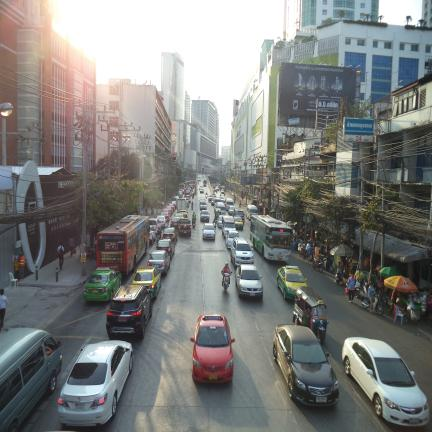bus: (96, 215, 149, 275), (250, 214, 293, 261)
car: (342, 338, 430, 426), (58, 340, 133, 426), (273, 325, 339, 405), (106, 285, 152, 339), (235, 264, 263, 298), (230, 237, 254, 268), (147, 250, 171, 275), (156, 238, 175, 259), (222, 215, 235, 238), (225, 230, 240, 249), (162, 228, 178, 243), (202, 223, 216, 240), (157, 214, 168, 229), (234, 209, 245, 224), (149, 217, 161, 230), (170, 216, 182, 229), (149, 225, 157, 244), (200, 210, 210, 222), (228, 205, 235, 216), (174, 212, 184, 219), (200, 202, 207, 210), (234, 209, 235, 210), (233, 215, 233, 215)
human: (0, 289, 9, 331), (347, 273, 356, 303), (222, 262, 232, 286), (389, 289, 398, 315), (368, 281, 376, 309), (425, 293, 432, 323), (57, 243, 64, 269), (19, 252, 25, 280), (14, 256, 20, 279), (69, 234, 75, 257), (355, 269, 364, 284), (303, 242, 310, 260), (363, 256, 371, 271), (308, 242, 314, 262), (239, 199, 242, 208), (230, 278, 230, 283)
motorbike: (293, 286, 328, 343), (371, 292, 384, 315), (323, 257, 334, 274), (312, 257, 324, 272), (362, 289, 370, 309), (223, 273, 230, 293), (355, 279, 362, 298), (335, 269, 343, 285), (298, 242, 306, 256), (156, 231, 161, 244), (192, 219, 196, 228), (191, 202, 194, 210), (221, 272, 222, 273)
taxi: (190, 314, 235, 382), (84, 267, 122, 301), (277, 266, 307, 299), (132, 266, 161, 298), (234, 216, 244, 230), (180, 210, 188, 218), (174, 212, 183, 218)
truck: (179, 218, 192, 236), (177, 198, 187, 213)
van: (0, 328, 62, 432), (222, 215, 235, 238), (246, 204, 258, 220), (215, 202, 226, 216), (225, 198, 234, 211)
